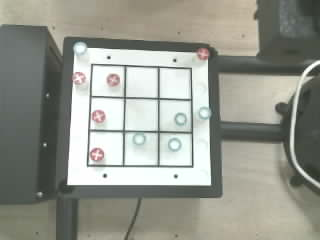blue circle: (168, 137, 181, 151), (198, 107, 212, 120), (73, 42, 86, 55), (133, 133, 145, 145), (175, 112, 186, 125)
board: (67, 42, 212, 185)
cells: (88, 132, 122, 164), (125, 133, 157, 165), (90, 98, 123, 129), (125, 99, 157, 130), (91, 66, 124, 96), (160, 134, 191, 165), (160, 100, 192, 130), (126, 67, 157, 97), (160, 68, 190, 98)
grid: (87, 64, 193, 167)
red cross: (91, 110, 105, 123), (72, 72, 85, 84), (90, 148, 103, 160), (107, 74, 119, 86), (196, 48, 209, 59)
